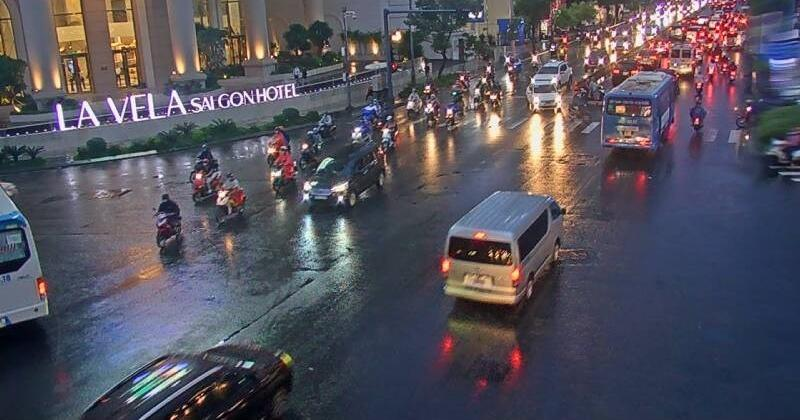xe buyt: (601, 71, 675, 149)
xe hoi: (441, 190, 562, 304), (302, 141, 386, 205)
xe may: (151, 193, 181, 248), (216, 171, 245, 224)
xe van: (80, 342, 287, 420)
